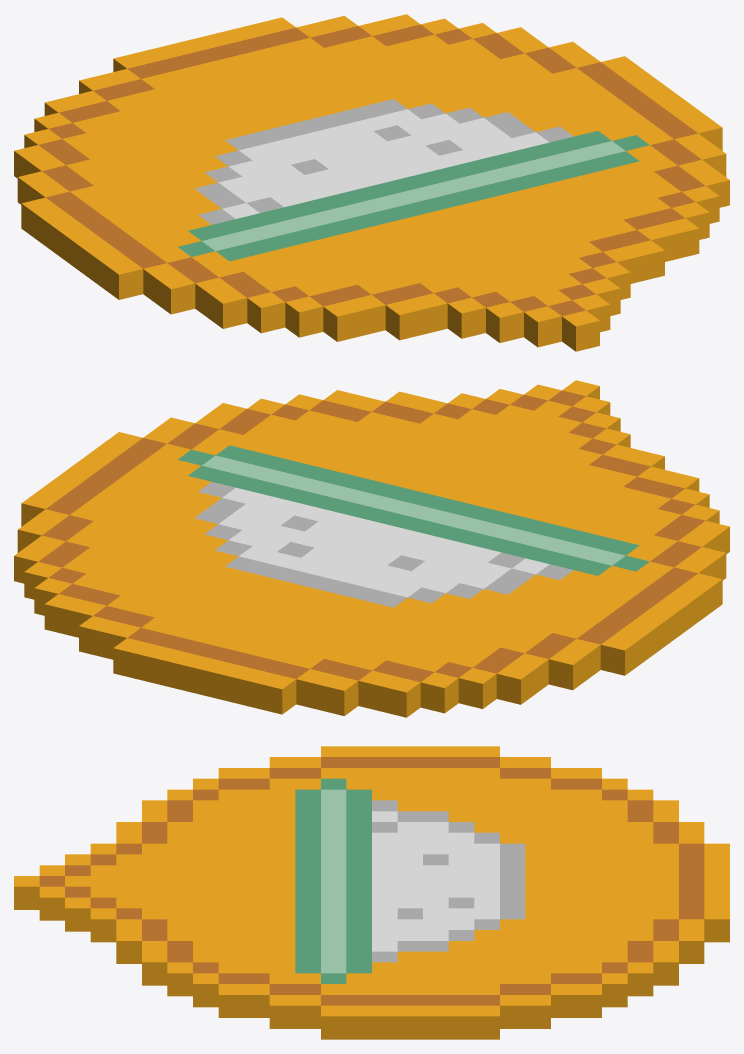
File: rice_pic.fbx
The picture shows the model from 3 angles, top to bottom: view 1: azimuth 30°, elevation 25°; view 2: azimuth 150°, elevation 25°; view 3: azimuth 270°, elevation 25°; orthographic projection. The views are drawn at different scales.
Parts seen in each view (by area): view 1: rice_pic:rice_pic; view 2: rice_pic:rice_pic; view 3: rice_pic:rice_pic.
Boxes of the visible parts, x1,y1,x2,y2 form: rice_pic:rice_pic: (14, 14, 729, 351); rice_pic:rice_pic: (14, 380, 729, 717); rice_pic:rice_pic: (14, 746, 729, 1039).
Bounding box in the file's own units: 25 × 1 × 28.
